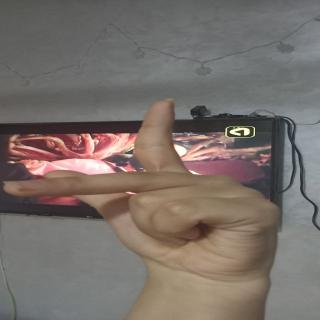DHAA: (0, 95, 269, 240)
